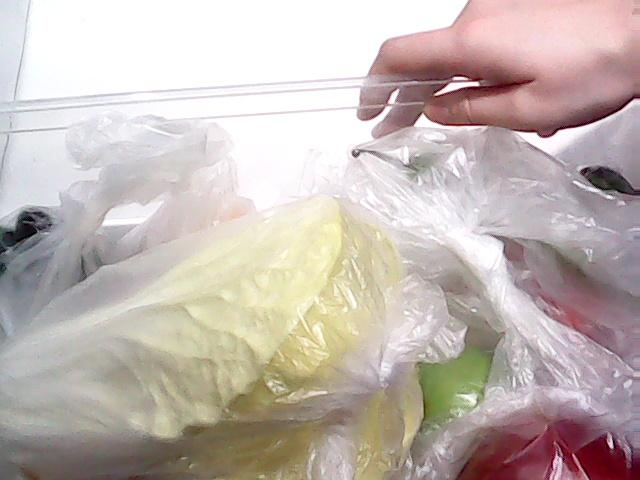apple: (459, 386, 640, 480)
carrot: (484, 213, 612, 337)
grape: (1, 182, 148, 290)
napa cabbage: (0, 183, 452, 468)
